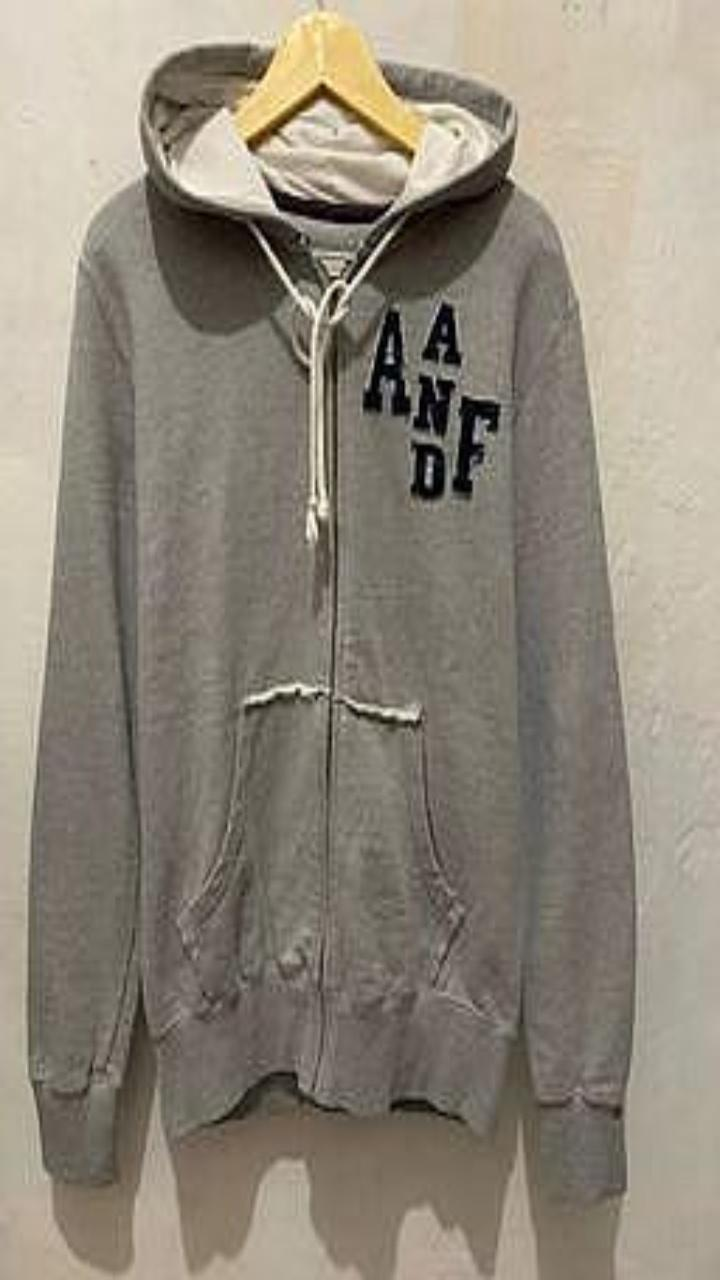Hoodie: (29, 43, 635, 1200)
